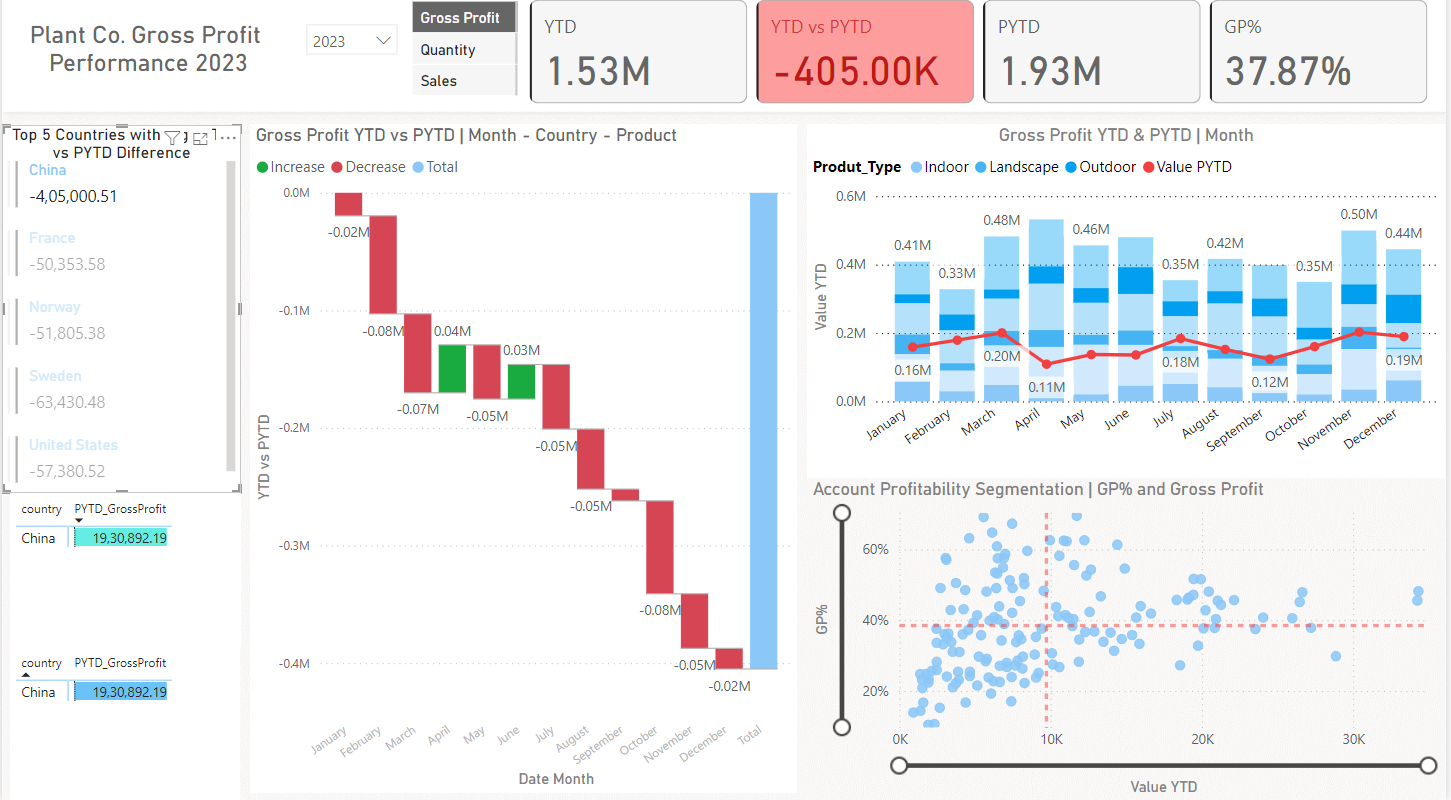

Layout of this report page (visuals, bound fields, positions):
{"tool":"powerbi","page":{"name":"Performance Report","canvas":[1280,720],"ordinal":0},"visuals":[{"type":"cardVisual","fields":{"Data":["_Measures.S_YTD","_Measures.YTD vs PYTD","_Measures.S_PYTD","_Measures.GP%"]},"box":[463,4.2,806.2,102.1],"z":0},{"type":"advancedSlicerVisual","fields":{"Values":["Slc_Values.Values"]},"box":[359.1,6.2,103.7,94],"z":1000},{"type":"slicer","fields":{"Values":["Dim_Date.Date.Variation.Date Hierarchy.Year"]},"box":[259.8,21.3,101.1,49.7],"z":2000},{"type":"waterfallChart","fields":{"Y":["_Measures.YTD vs PYTD"],"Category":["Dim_Date.Date.Variation.Date Hierarchy.Month","Dim_Account.country","Dim_Product.Produt_Type","Dim_Product.Product_Name"]},"box":[220.3,119.6,485.2,593.5],"z":4000},{"type":"lineStackedColumnComboChart","fields":{"Y":["_Measures.S_YTD"],"Y2":["_Measures.S_PYTD"],"Category":["Dim_Date.Date.Variation.Date Hierarchy.Quarter","Dim_Date.Date.Variation.Date Hierarchy.Month"],"Series":["Dim_Product.Produt_Type"]},"box":[714.1,119.6,565.9,314.3],"z":5000},{"type":"scatterChart","fields":{"Y":["_Measures.GP%"],"X":["_Measures.S_YTD"],"Category":["Dim_Account.Account"]},"box":[714.1,433.9,565.9,285.8],"z":6000},{"type":"card","fields":{"Values":["_Measures._Report title"]},"box":[0,4.4,259.8,95.8],"z":7000},{"type":"multiRowCard","title":"Top 5 Countries with High YTD vs PYTD Difference","fields":{"Values":["Dim_Account.country","_Measures.Top 3 Negative Difference"]},"box":[0,120.2,211.6,326.7],"z":9000},{"type":"pivotTable","title":"Bottom 10 YTD vs PYTD | Country","fields":{"Rows":["Dim_Account.country"],"Values":["_Measures.PYTD_GrossProfit"]},"box":[7.1,446.9,204.8,136.6],"z":10000},{"type":"pivotTable","title":"Bottom 10 YTD vs PYTD | Country","fields":{"Rows":["Dim_Account.country"],"Values":["_Measures.PYTD_GrossProfit"]},"box":[7.2,583.5,204.4,135.6],"z":10001}]}

Visuals, with their boxes on the page's 1280x720 design canvas (x1, y1, x2, y2). These are canvas units, not pixel positions in the 1451x800 screenshot, which may show the page scaled, cropped or inside an application window:
cardVisual - _Measures.S_YTD x _Measures.YTD vs PYTD: Rect(463, 4, 1269, 106)
advancedSlicerVisual - Slc_Values.Values: Rect(359, 6, 463, 100)
slicer - Dim_Date.Date.Variation.Date Hierarchy.Year: Rect(260, 21, 361, 71)
waterfallChart - _Measures.YTD vs PYTD x Dim_Date.Date.Variation.Date Hierarchy.Month: Rect(220, 120, 706, 713)
lineStackedColumnComboChart - _Measures.S_YTD x _Measures.S_PYTD: Rect(714, 120, 1280, 434)
scatterChart - _Measures.GP% x _Measures.S_YTD: Rect(714, 434, 1280, 720)
card - _Measures._Report title: Rect(0, 4, 260, 100)
"Top 5 Countries with High YTD vs PYTD Difference" multiRowCard: Rect(0, 120, 212, 447)
"Bottom 10 YTD vs PYTD | Country" pivotTable: Rect(7, 447, 212, 584)
"Bottom 10 YTD vs PYTD | Country" pivotTable: Rect(7, 584, 212, 719)
